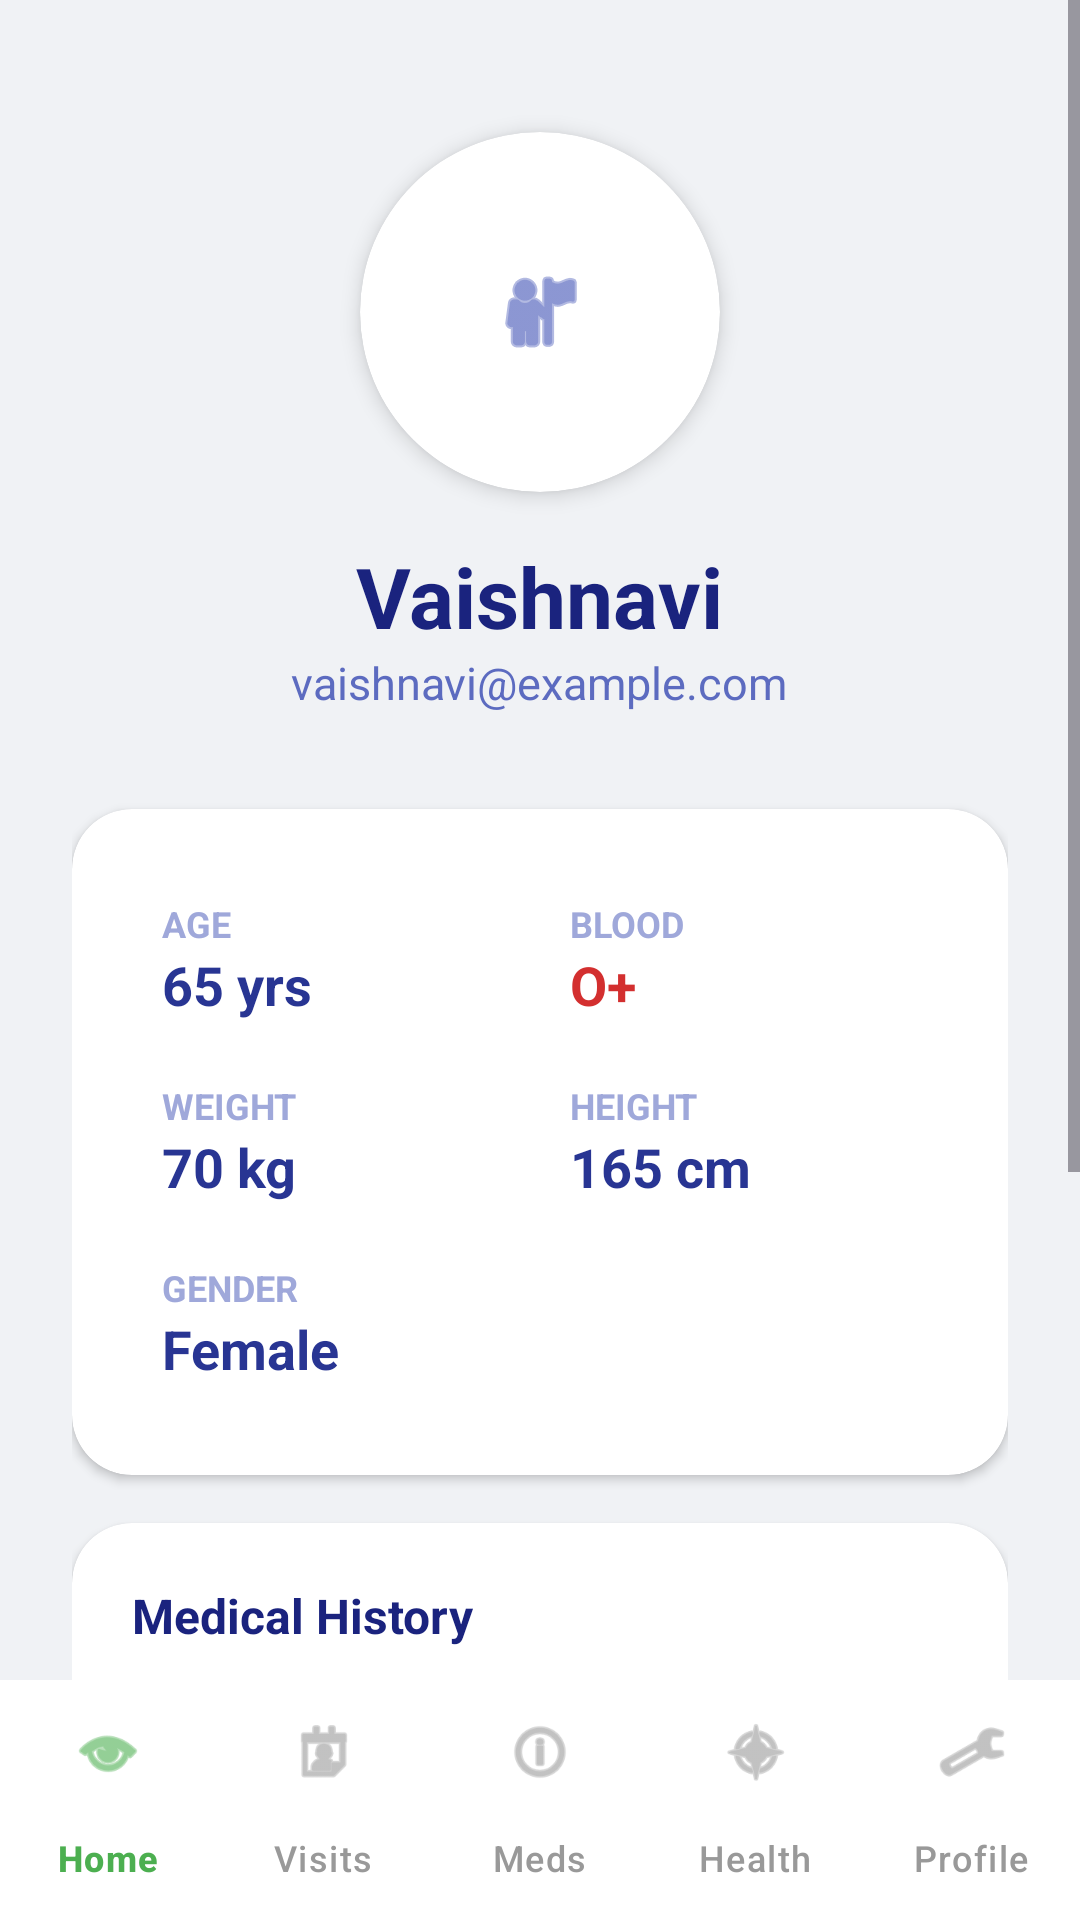

Icons on this 1080 x 1920 Android screen, each with the point to tap as (x,y):
Profile Picture: (540,312)
